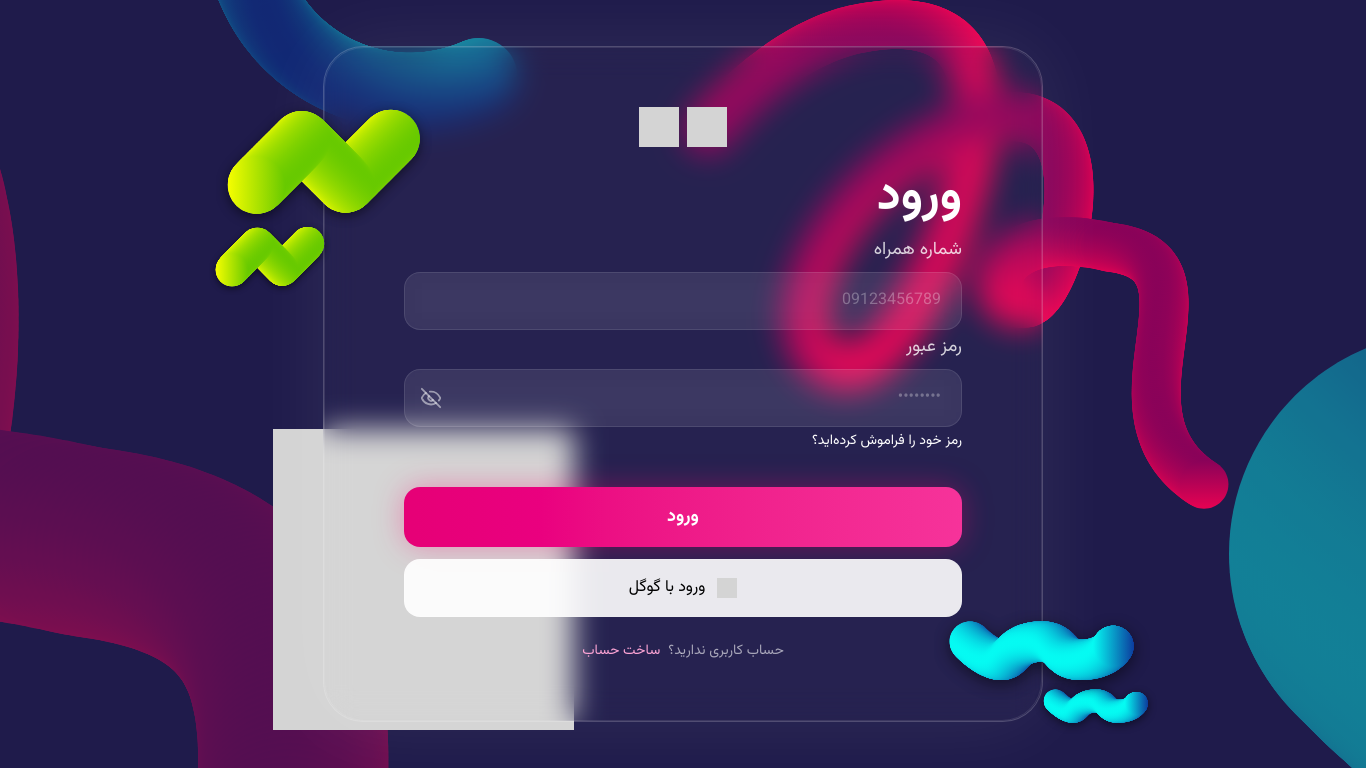
Test: Login Page › shows password validation error
Step 1. Type "abc" into the password field with placeholder "••••••••" → (683, 398), box [404,369,962,427]
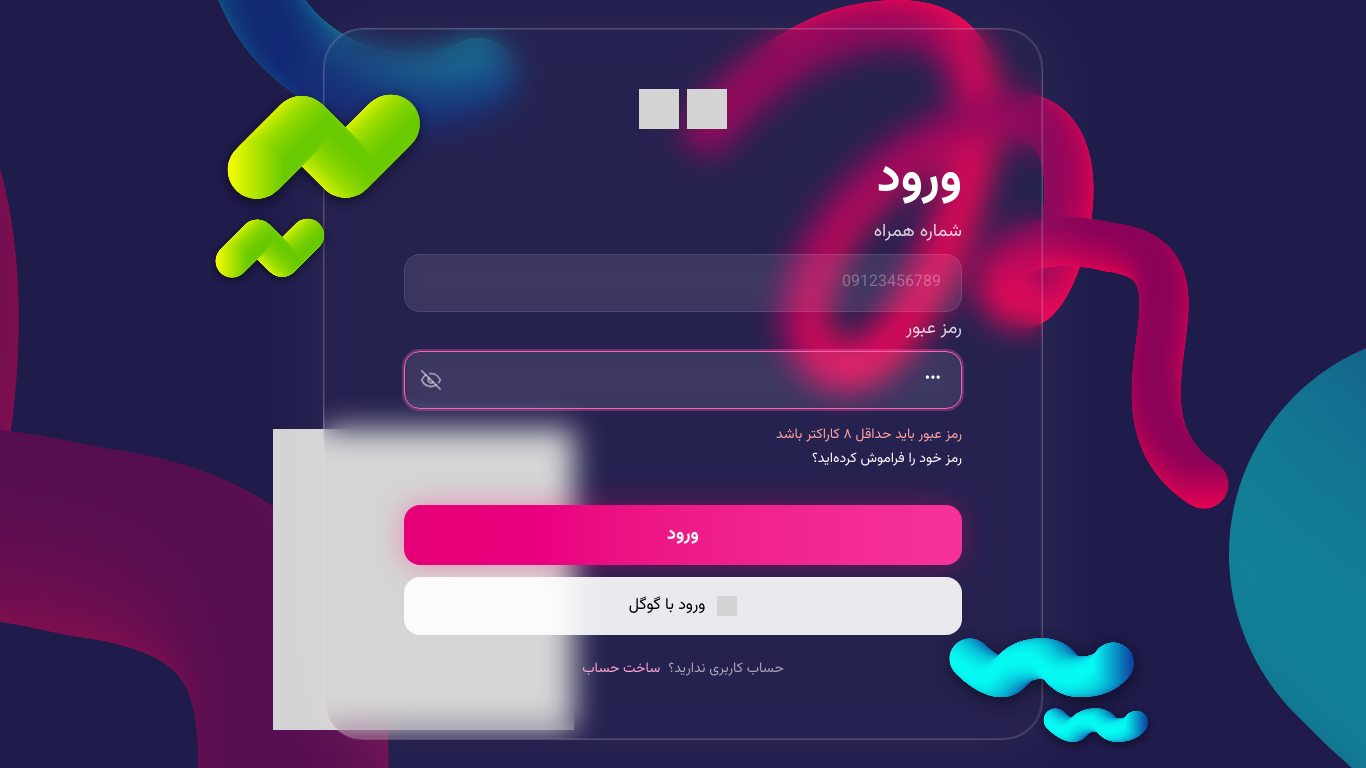
Check: the text "رمز عبور باید حداقل ۸ کاراکتر باشد" is shown, box [776,424,962,446]
